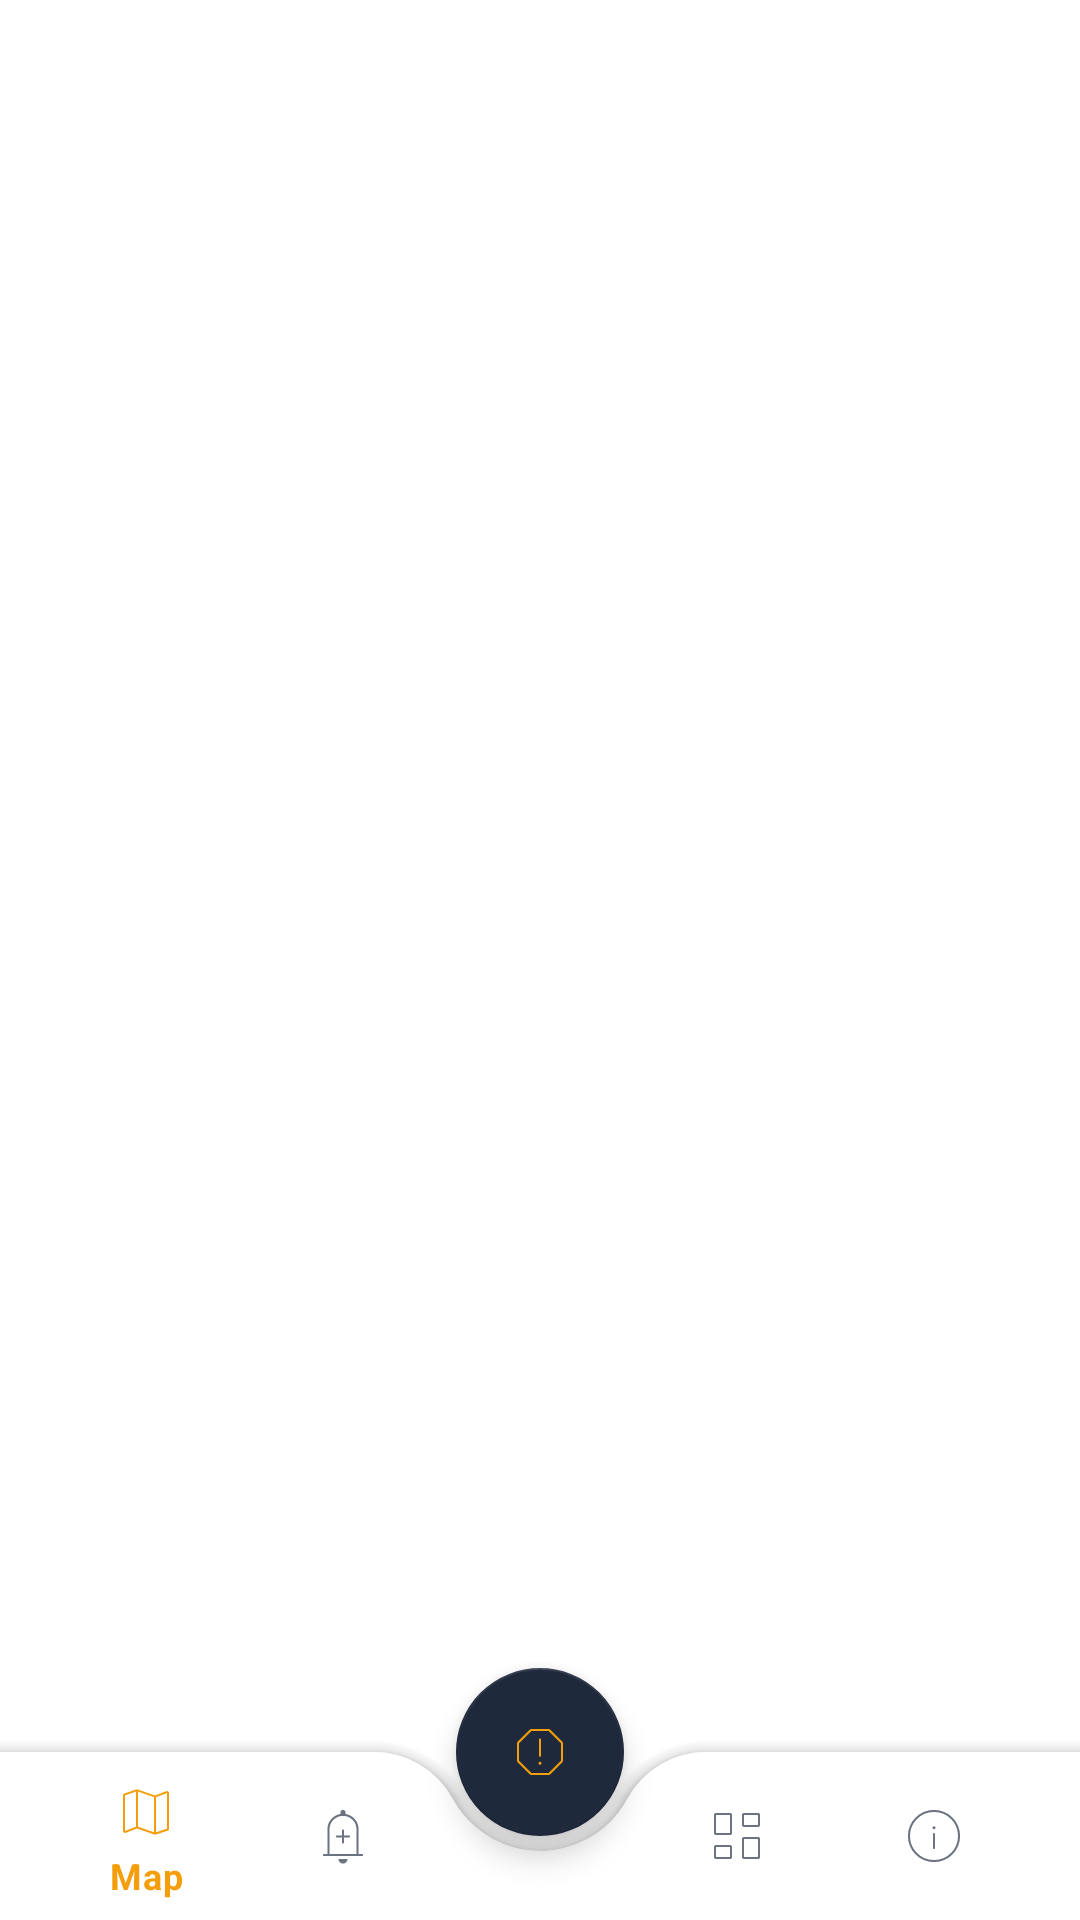

Icons on this 1080px×1920px Android screen, each with its box as rect(x1, y1, x2, y2):
report: rect(456, 1668, 624, 1836)
